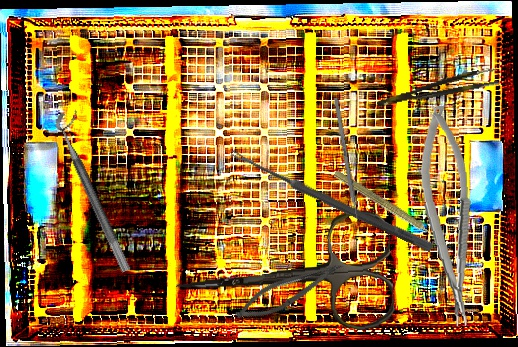Fixation Ring: (52, 107, 144, 274)
Handpiece: (330, 168, 444, 246)
Iris Scissors: (172, 209, 396, 343)
Micro Scissor: (230, 248, 348, 331)
Needle Holder: (415, 104, 480, 328)
Pusher: (333, 97, 362, 234)
Surgical Spoon: (229, 148, 434, 253)
Tissue Forceps: (374, 66, 500, 109)
